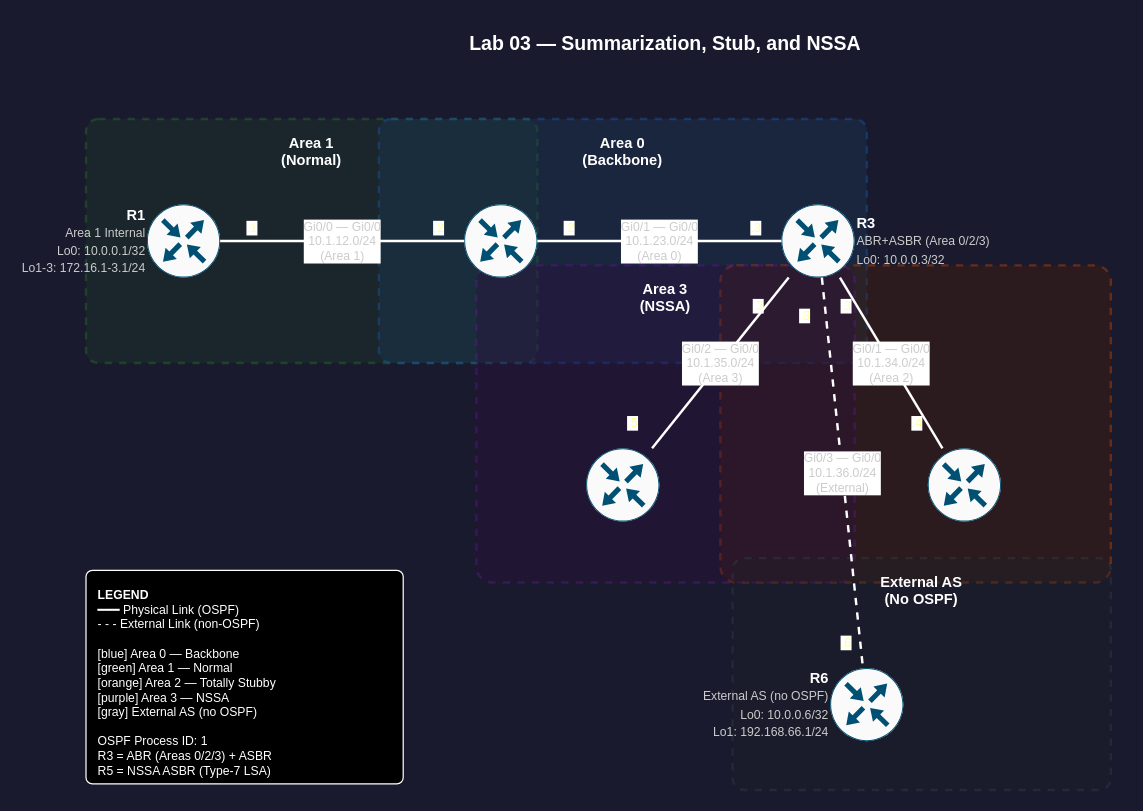
The diagram is 1143 pixels wide and 811 high, and some of its shapes have lost their labels. The box of each missing label's shape, as (x1, y1, x2, y2) in pixels:
Area 2 (Totally Stubby): (719, 264, 1111, 583)
R2 ABR (Area 0/1) Lo0: 10.0.0.2/32: (463, 203, 537, 278)
R4 Area 2 Internal Lo0: 10.0.0.4/32 Lo1: 172.16.4.1/24: (927, 447, 1001, 522)
R5 Area 3 NSSA ASBR Lo0: 10.0.0.5/32 Lo1: 172.16.5.1/24 Lo2: 192.168.55.1/24: (585, 447, 659, 522)
